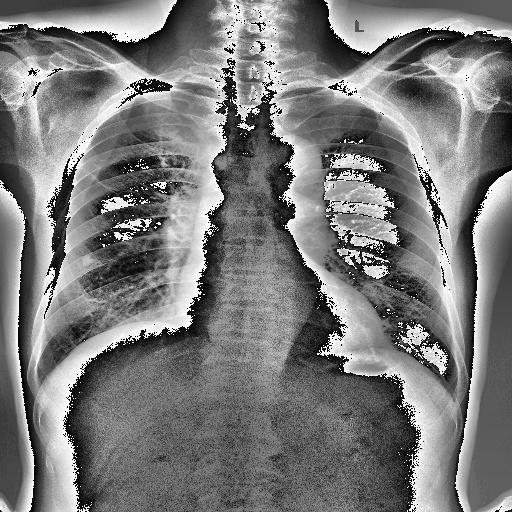0- Aortic enlargement: (258, 134, 324, 197), (272, 136, 325, 209), (274, 136, 322, 184)
13- Pulmonary fibrosis: (76, 163, 124, 192), (80, 161, 120, 195), (84, 168, 112, 190)
2- Calcification: (81, 252, 94, 266)
3- Cardiomegaly: (168, 282, 386, 358)
8- Nodule-Mass: (82, 256, 92, 266)
